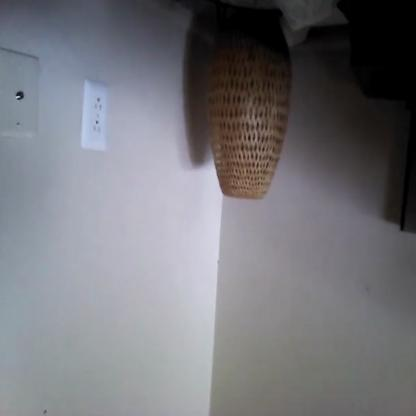OUTLET: (80, 80, 108, 150)
